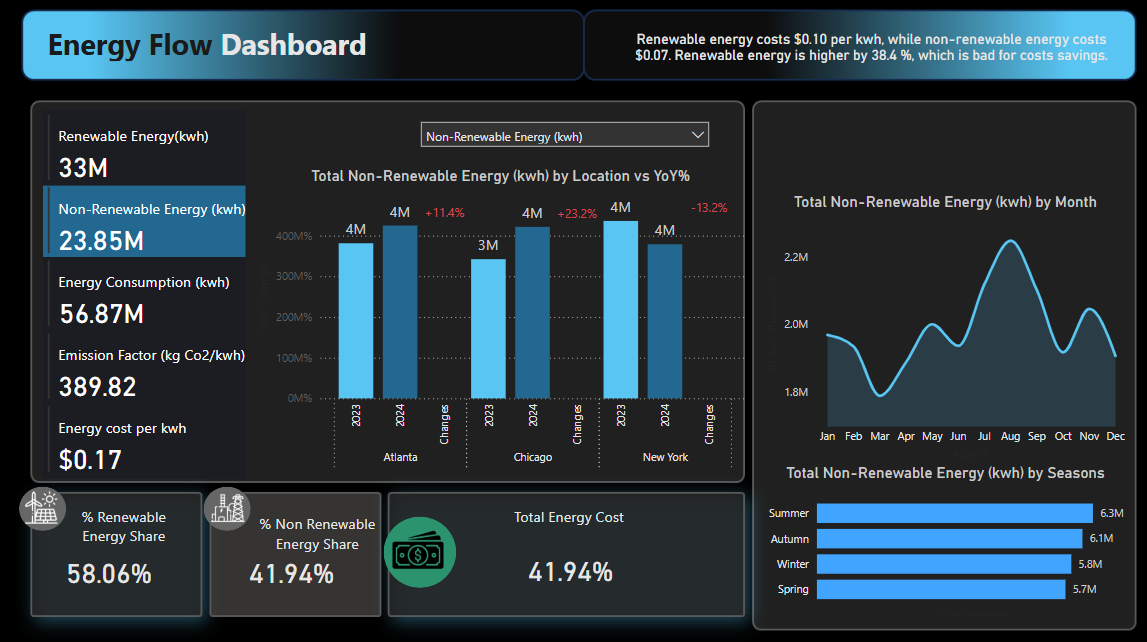

The dashboard page shown, as its layout file describes it:
{"tool":"powerbi","page":{"name":"Page 1","canvas":[1280,720],"ordinal":0},"visuals":[{"type":"shape","box":[50,203.3,225,83.3],"z":0},{"type":"shape","box":[49.3,124.1,225,84.3],"z":1000},{"type":"shape","box":[50,286.7,225,83.3],"z":2000},{"type":"shape","box":[50,368.3,225,83.3],"z":3000},{"type":"shape","box":[50,450,225,83.3],"z":4000},{"type":"cardVisual","fields":{"Data":["DAX House.Total Renewable Energy(kwh)","DAX House.Total Non-Renewable Energy (kwh)","DAX House.Total Energy Consumption (kwh)","DAX House.Emission Factor (kg Co2/kwh)","DAX House.Energy cost per kwh"]},"box":[50,123.3,256.7,410],"z":5000},{"type":"clusteredColumnChart","fields":{"Category":["Data.Location","YearTable.Year"],"Y":["YearTable.YoY Change"]},"box":[281.7,186.7,553.3,345],"z":6000},{"type":"slicer","fields":{"Values":["Switchable Measures.Switchable Measures"]},"box":[460,126.7,340,45],"z":7000},{"type":"cardVisual","fields":{"Data":["DAX House.% Renewable Energy Share"]},"box":[50,590,146.7,88.3],"z":8000},{"type":"textbox","box":[82.7,558.3,112.9,66.8],"z":9000},{"type":"textbox","box":[281.5,566.3,146.3,76.3],"z":10000},{"type":"textbox","box":[568.3,558.3,141.7,43.3],"z":11000},{"type":"cardVisual","fields":{"Data":["DAX House.% Non Renewable Energy Share"]},"box":[253.3,590,146.7,88.3],"z":12000},{"type":"cardVisual","fields":{"Data":["DAX House.% Non Renewable Energy Share"]},"box":[563.1,588.5,146.3,87.5],"z":13000},{"type":"shape","box":[23.9,542.4,52.5,49.3],"z":14000},{"type":"shape","box":[427.9,575.8,81.1,79.5],"z":15000},{"type":"image","box":[23.9,542.4,49.3,46.1],"z":16000},{"type":"image","box":[431.1,579,70,66.8],"z":17000},{"type":"shape","box":[229,542.4,52.5,49.3],"z":18000},{"type":"image","box":[230.6,542.4,50.9,47.7],"z":19000},{"type":"lineChart","fields":{"Category":["Calendar.Month"],"Y":["Switchable Measures.Group Measures"]},"box":[846.2,214.7,412,302.2],"z":20000},{"type":"clusteredBarChart","fields":{"Category":["Calendar.Season"],"Y":["Switchable Measures.Group Measures"]},"box":[846.2,516.9,412,176.6],"z":21000},{"type":"textbox","box":[49.3,22.3,381.7,52.5],"z":22000},{"type":"cardVisual","fields":{"Data":["DAX House.Energy Cost Summary"]},"box":[684,0,574.2,98.6],"z":23000}]}

Visuals, with their boxes in screenshot pixels (x1, y1, x2, y2), scaled from the page's 1280x720 canvas onto the 1147x642 screenshot:
shape: 45,181,246,256
shape: 44,111,246,186
shape: 45,256,246,330
shape: 45,328,246,403
shape: 45,401,246,476
cardVisual - DAX House.Total Renewable Energy(kwh) x DAX House.Total Non-Renewable Energy (kwh): 45,110,275,476
clusteredColumnChart - Data.Location x YearTable.Year: 252,166,748,474
slicer - Switchable Measures.Switchable Measures: 412,113,717,153
cardVisual - DAX House.% Renewable Energy Share: 45,526,176,605
textbox: 74,498,175,557
textbox: 252,505,383,573
textbox: 509,498,636,536
cardVisual - DAX House.% Non Renewable Energy Share: 227,526,358,605
cardVisual - DAX House.% Non Renewable Energy Share: 505,525,636,603
shape: 21,484,68,528
shape: 383,513,456,584
image: 21,484,66,525
image: 386,516,449,576
shape: 205,484,252,528
image: 207,484,252,526
lineChart - Calendar.Month x Switchable Measures.Group Measures: 758,191,1127,461
clusteredBarChart - Calendar.Season x Switchable Measures.Group Measures: 758,461,1127,618
textbox: 44,20,386,67
cardVisual - DAX House.Energy Cost Summary: 613,0,1127,88
